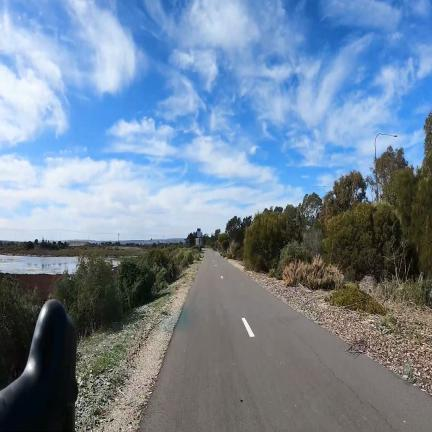Bike_Lane: (140, 251, 432, 432)
